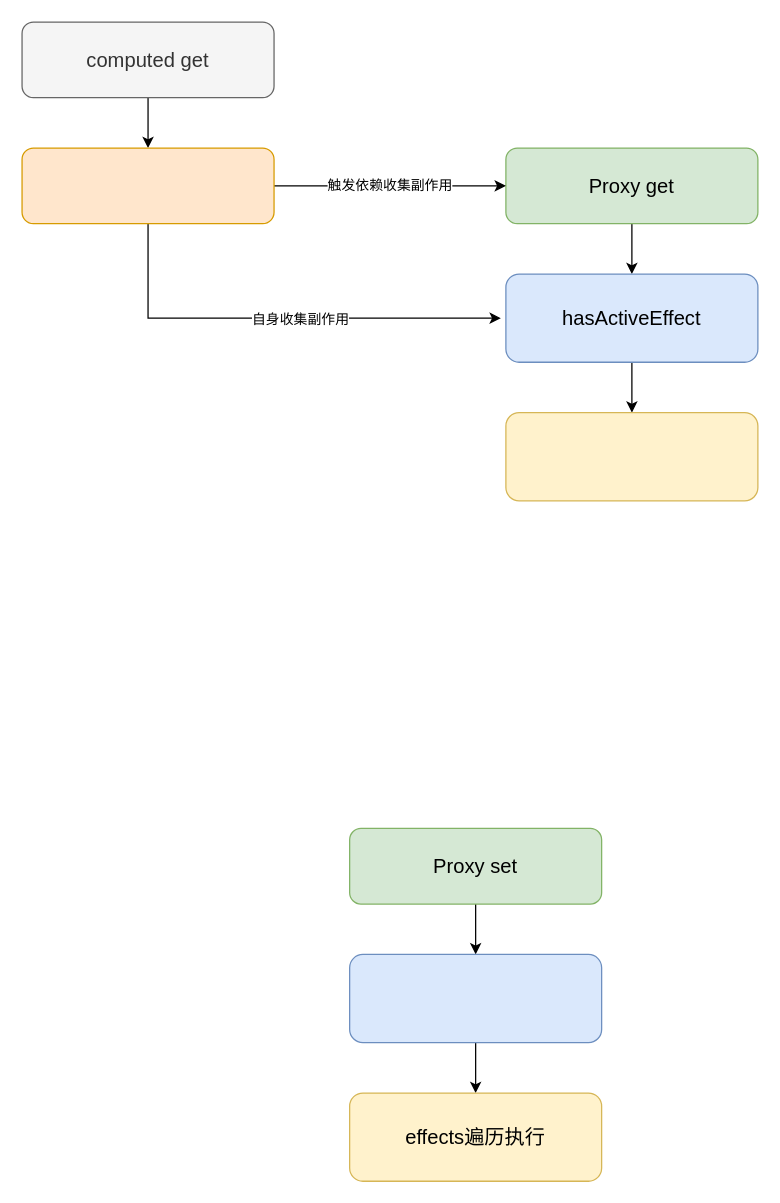
This 780x1203 diagram has some shape labels left out. The shapes that lost their labels are listed below. From the top down, each one's box as (x1, y1, x2, y2) in pixels, then its label:
(21, 147, 274, 224): effect()
(505, 411, 758, 501): deps => activeEffect
(348, 953, 602, 1043): deps has effects
